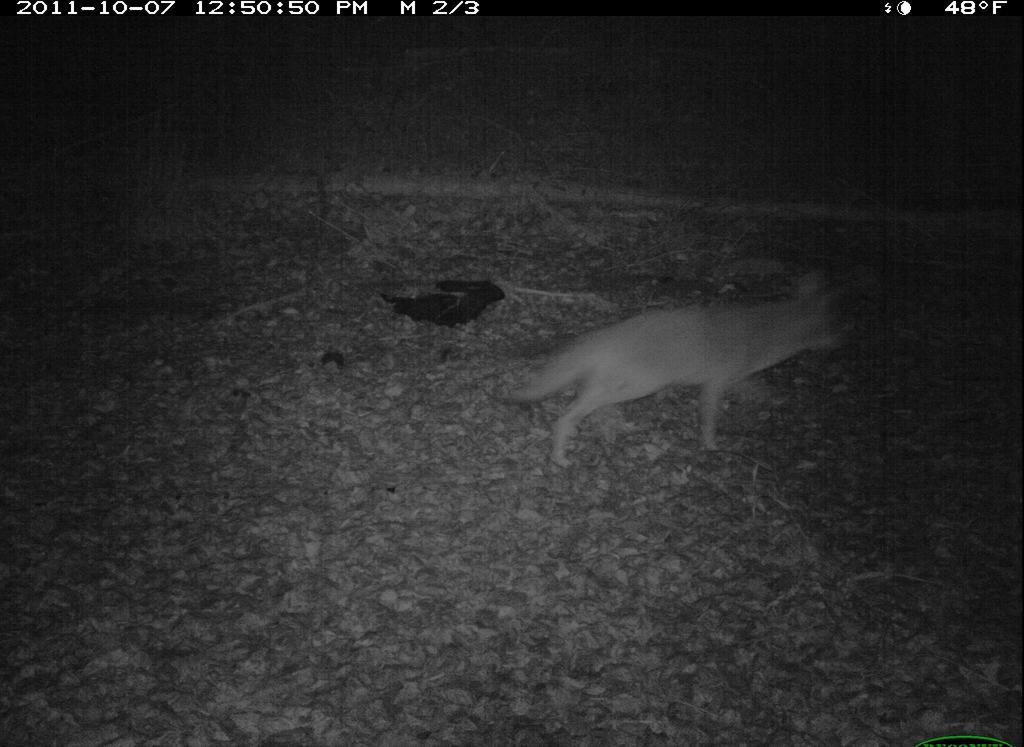coyote: (492, 267, 852, 479)
